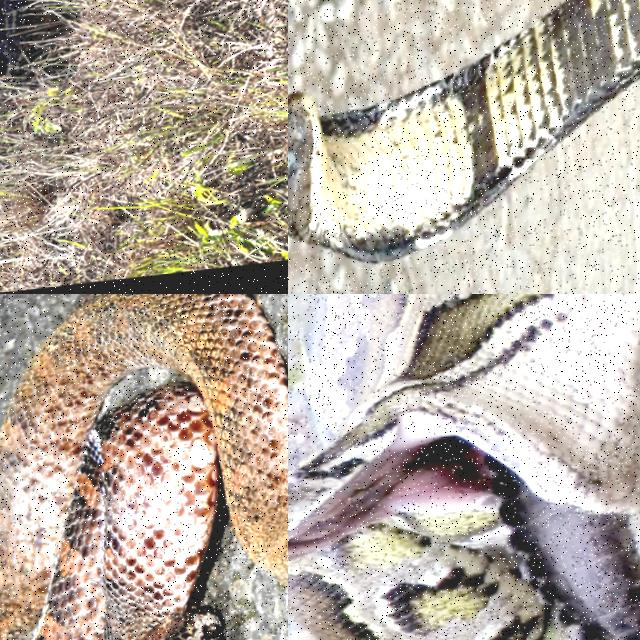Ophiophagus hannah: (288, 0, 639, 260)
Ovophis monticola: (0, 294, 287, 639)
Python bivittatus: (288, 294, 639, 639), (0, 0, 34, 76)
